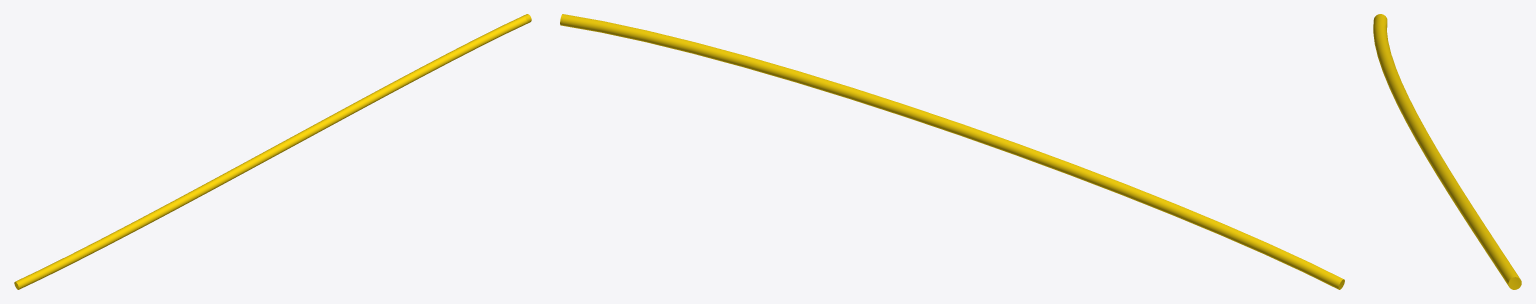
The model's file is Event_420094457_track_70.fbx.
The picture shows the model from 3 angles, left to right: view 1: azimuth 30°, elevation 25°; view 2: azimuth 150°, elevation 25°; view 3: azimuth 270°, elevation 25°; orthographic projection. The views are drawn at different scales.
Visible parts, largest first — view 1: Model; view 2: Model; view 3: Model.
Boxes of the visible parts, bbox=[...] form: Model: bbox=[14, 14, 531, 289]; Model: bbox=[560, 14, 1344, 289]; Model: bbox=[1373, 14, 1521, 289].
Bounding box in the file's own units: 2.86 × 0.5306 × 0.4303.
